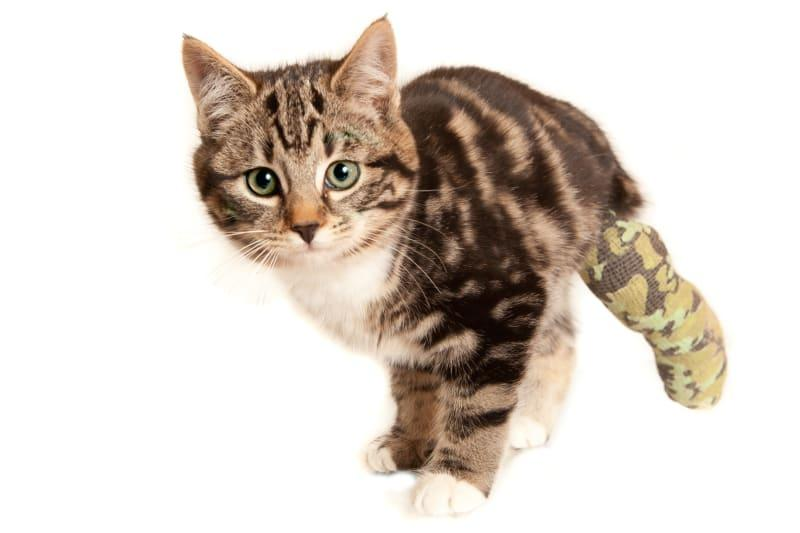fracture: (551, 179, 787, 447)
